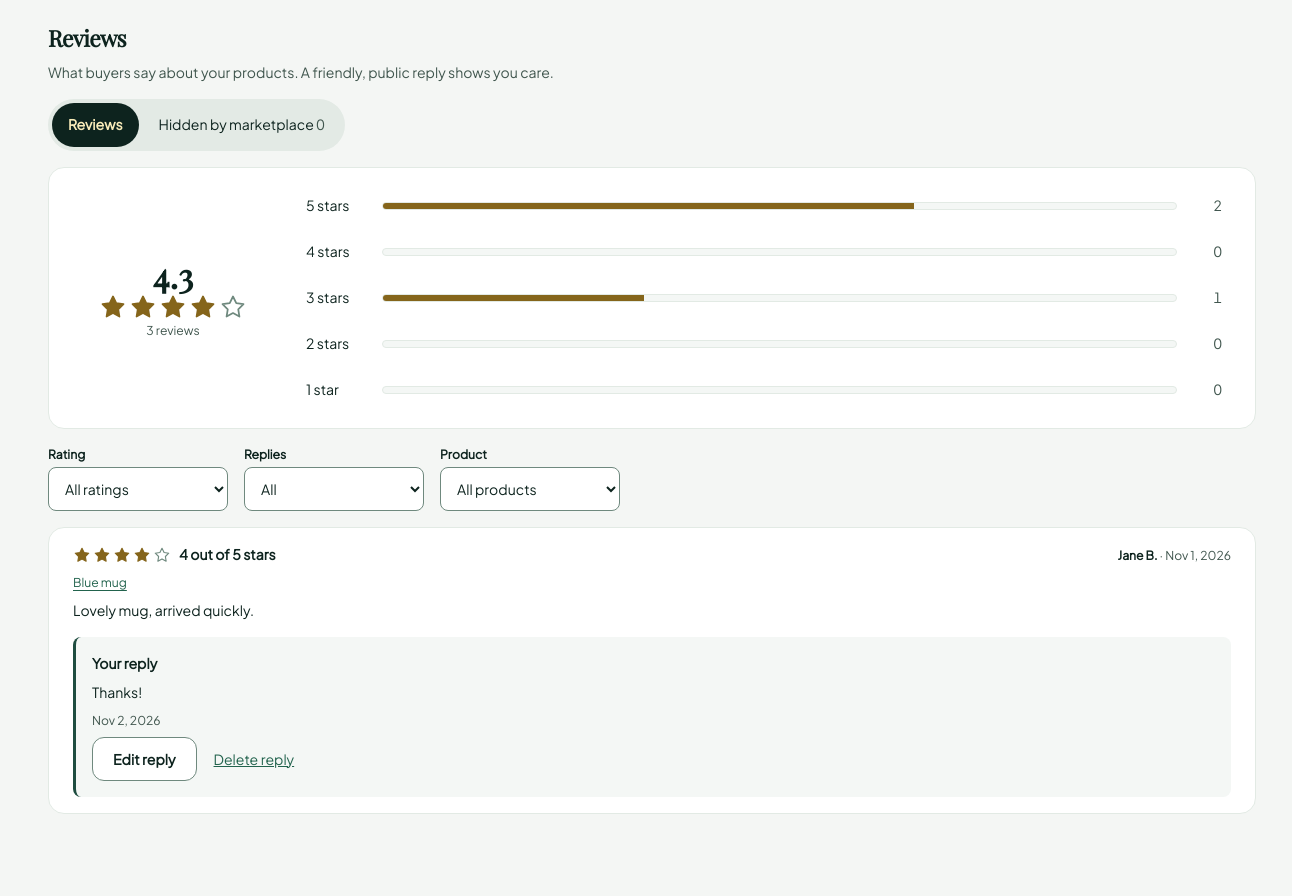
Test: reply editor › edits an existing reply and shows server problems (contact details, rate limit) inline
The width and height of the screenshot is (1292, 896).
Click the button "Edit reply". click: (144, 759)
box: 92,737 -> 196,781
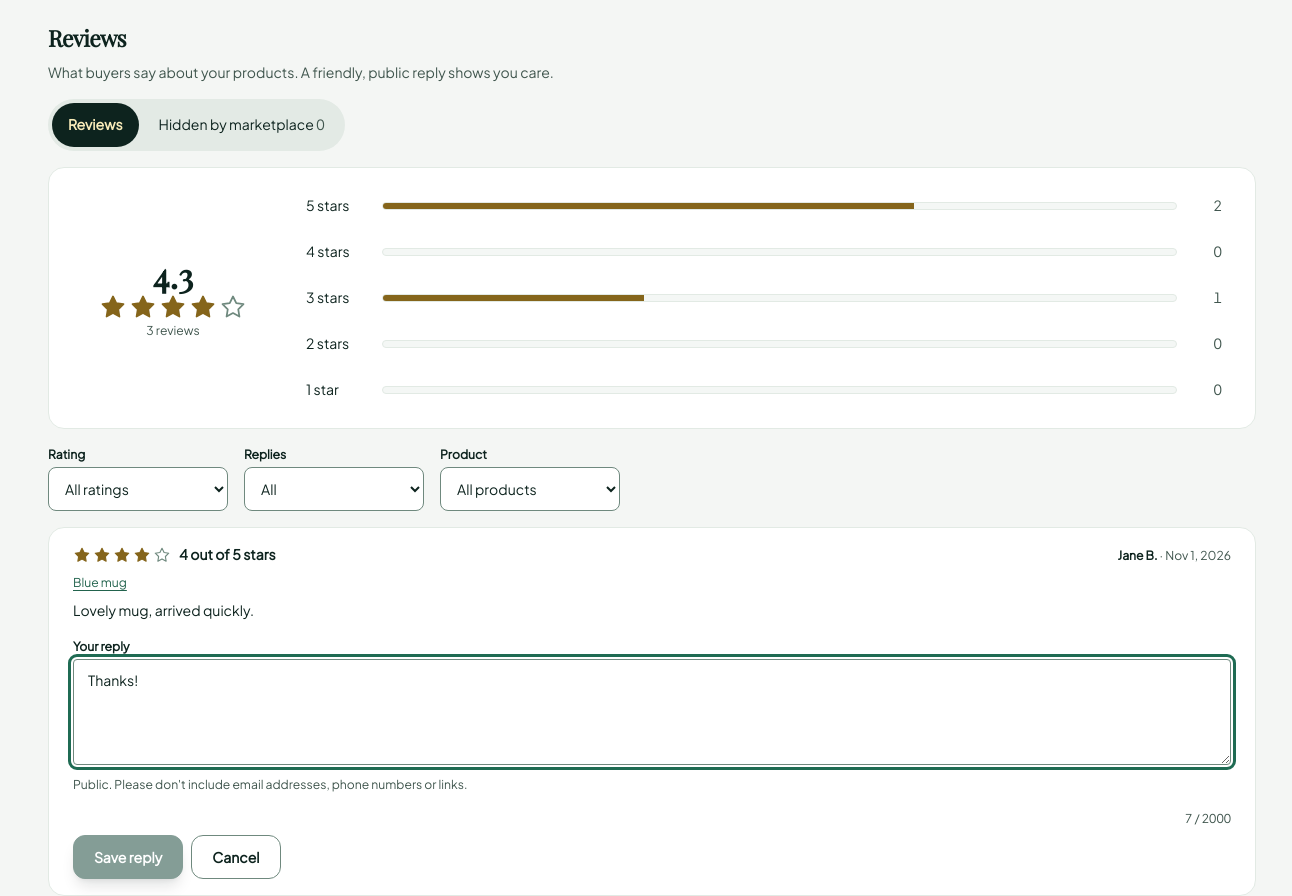
Expected: the text box labelled "Your reply" holds "Thanks!"
Expected: the button "Save reply" is disabled, 73,835 -> 183,879
Replace the text in the text box labelled "Your reply" with "mail me at a@b.co". click: (652, 712)
box: 73,659 -> 1231,765
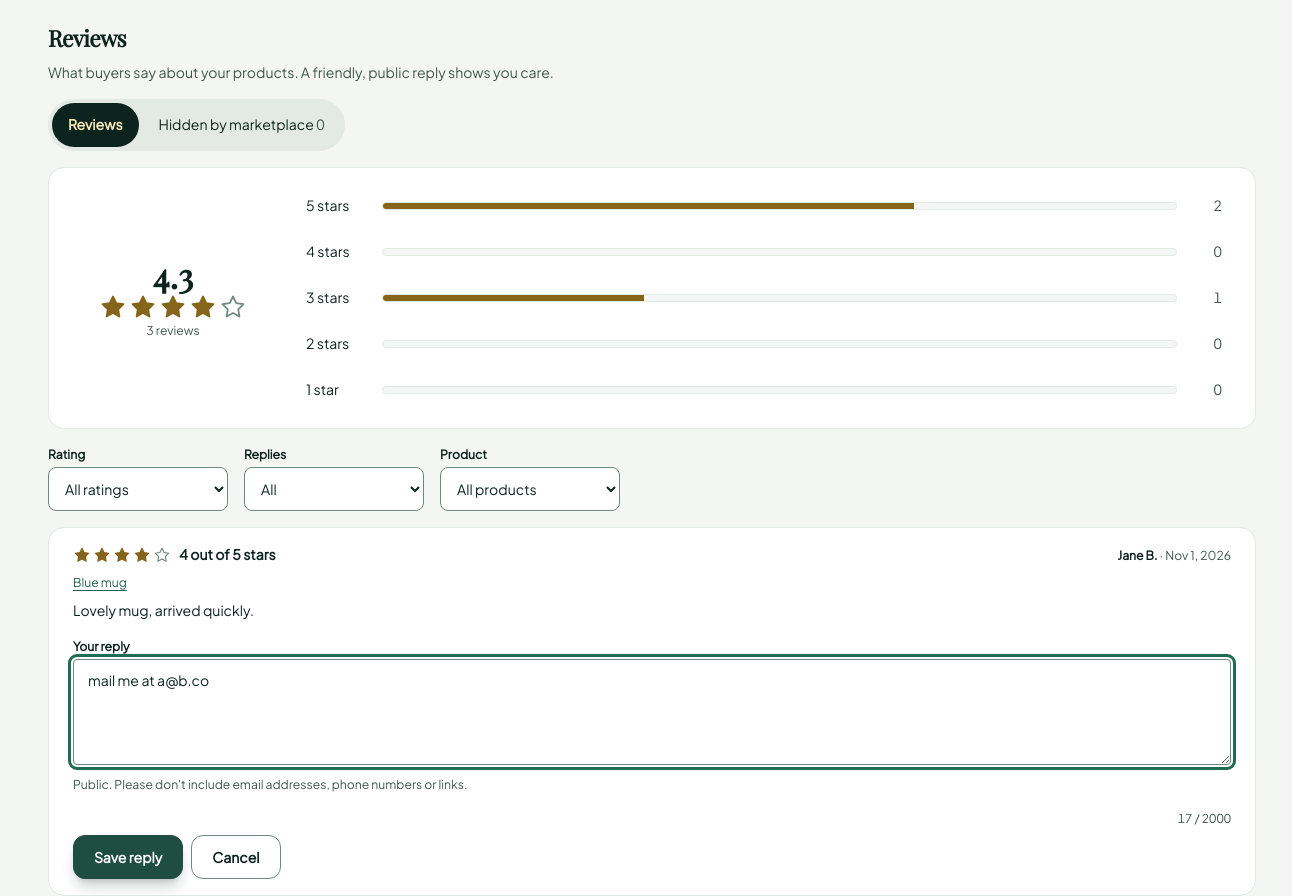
Click the button "Save reply". click: (128, 857)
box: 73,835 -> 183,879
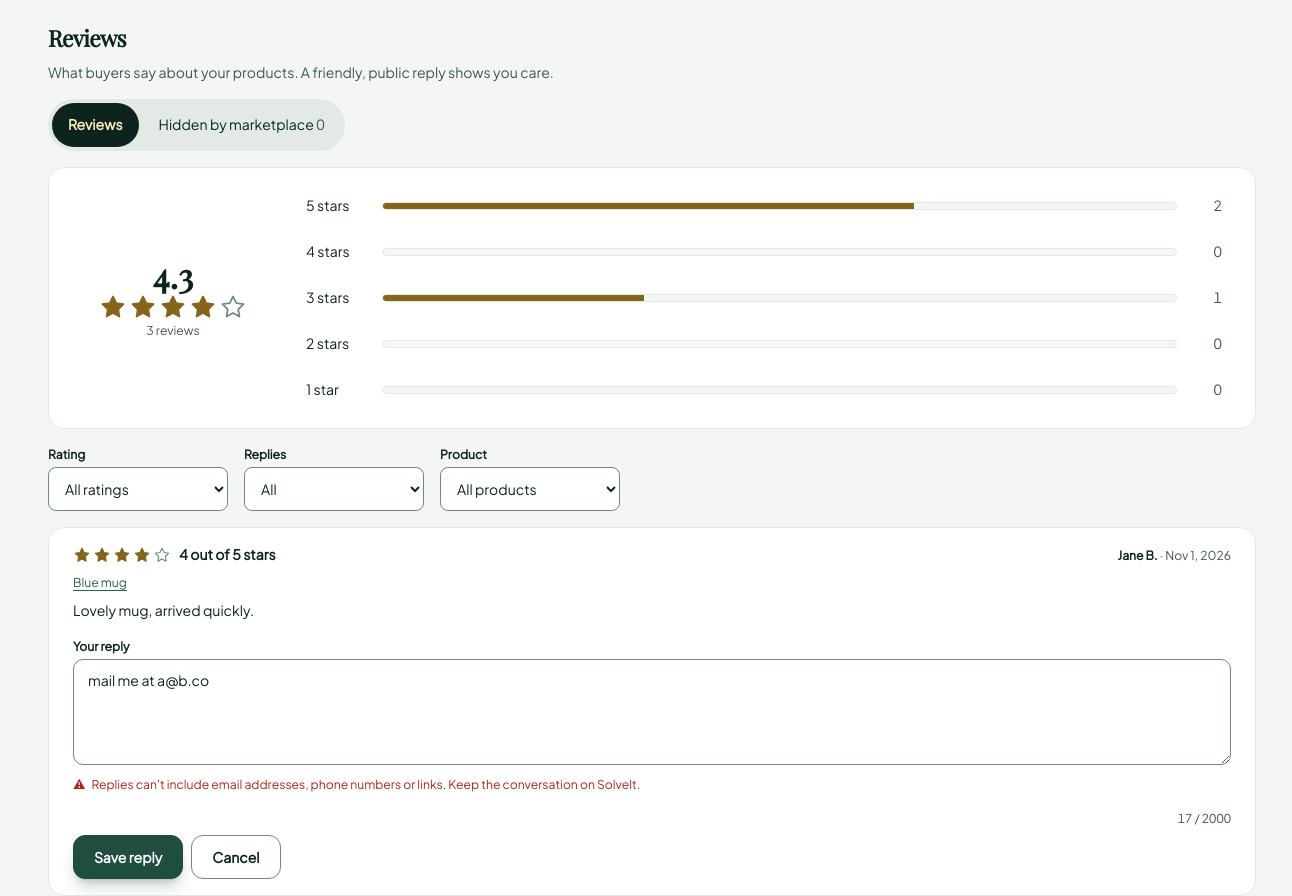
Expected: the text "can't include email addresses" is shown, 92,776 -> 640,792
Click the button "Save reply". click: (128, 857)
box: 73,835 -> 183,879
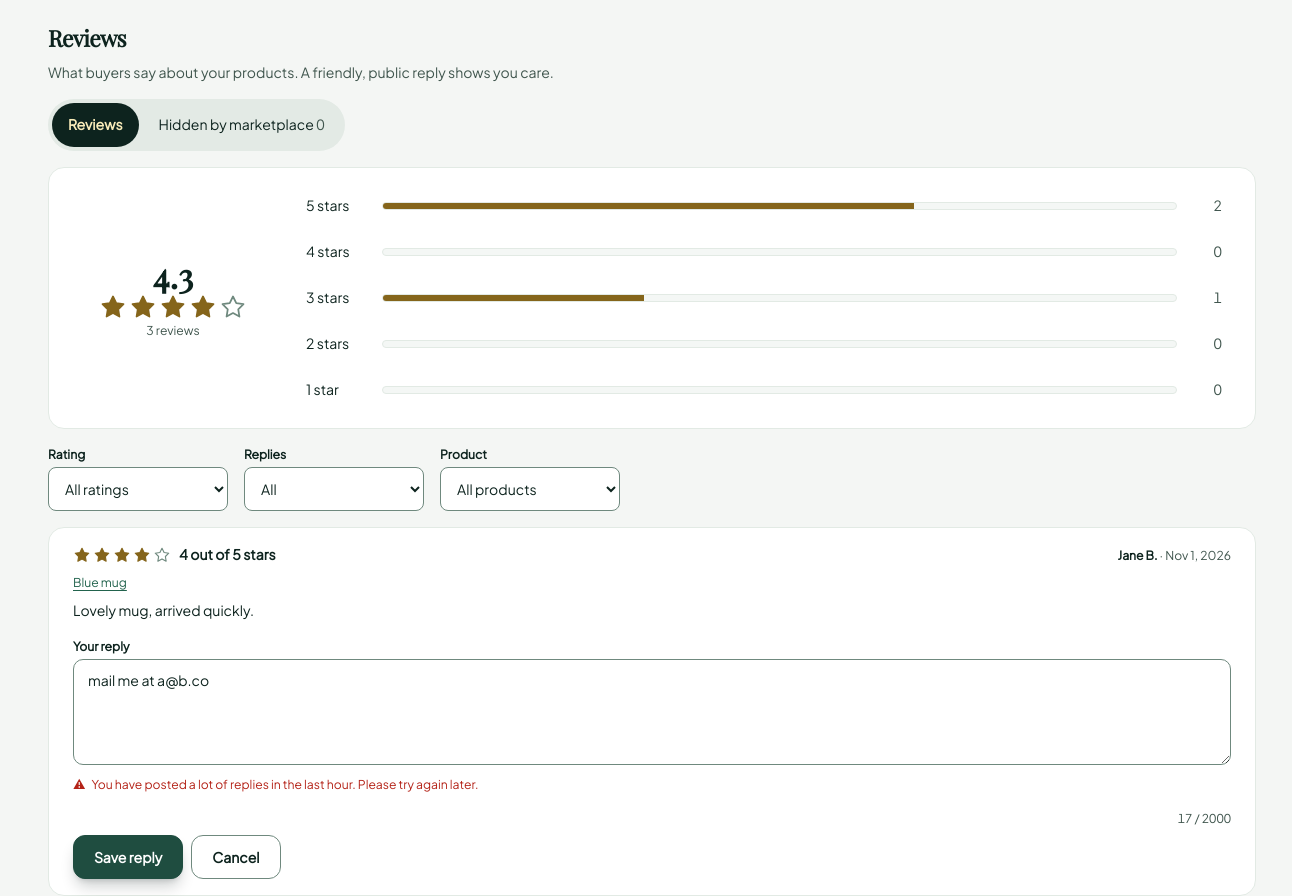
Expected: the text "posted a lot of replies" is shown, 92,776 -> 478,792
Click the button "Cancel". click: (236, 857)
box: 191,835 -> 280,879
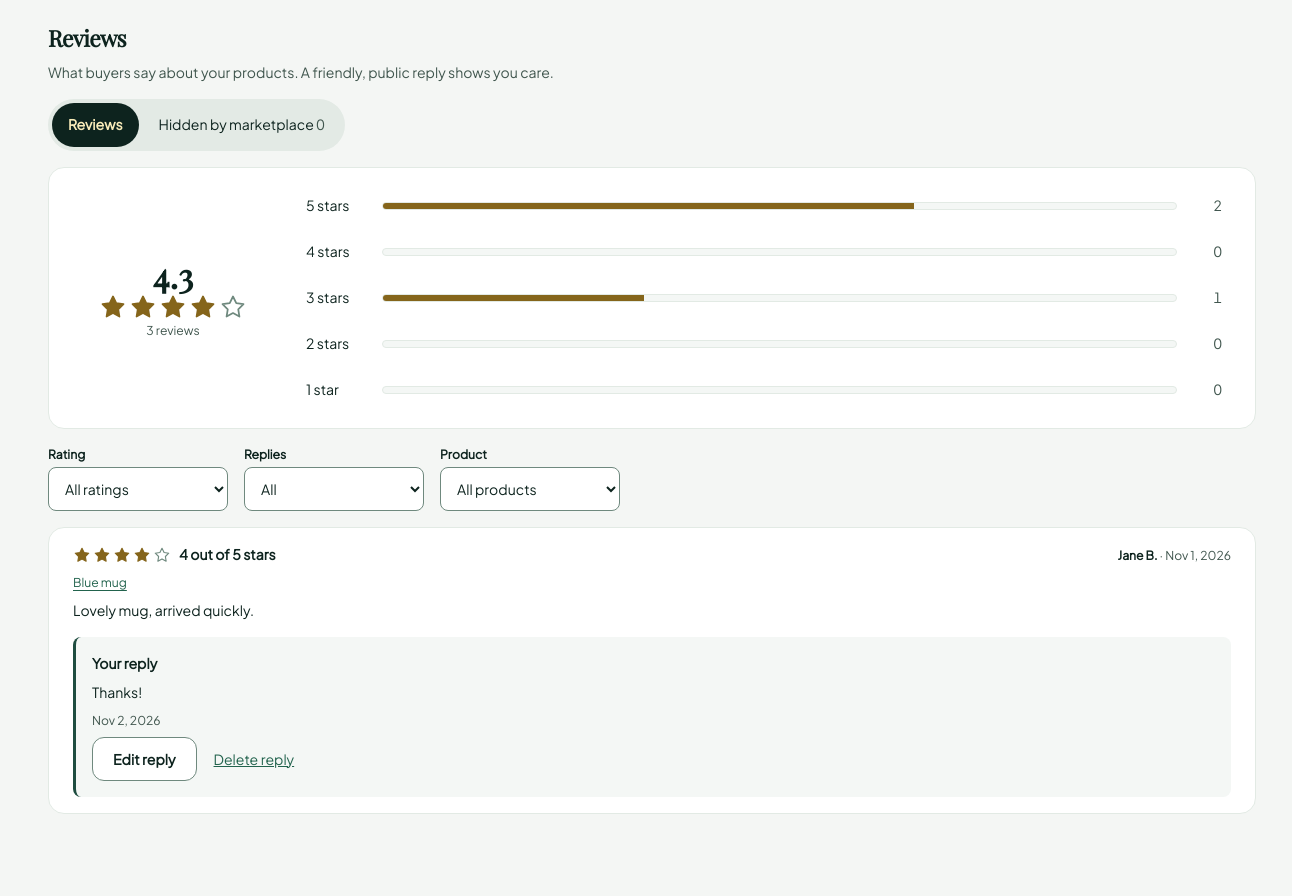
Expected: the text "Thanks!" is shown, 92,683 -> 142,701
